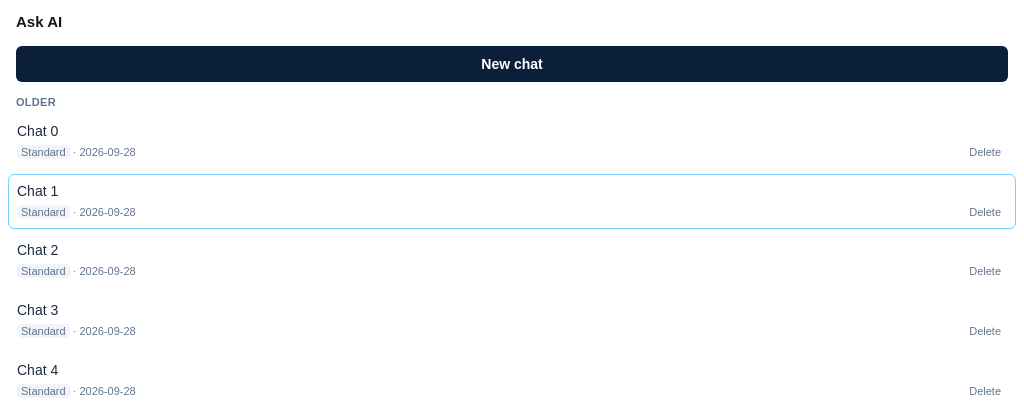
Test case: Rail › a DELETE answered 404 counts as success (the chat is already gone): back to /ask when it was the open chat, and no error line
The width and height of the screenshot is (1024, 419).
Click the button with aria-label "Delete Chat 1" at (985,213), box [963,203,1007,222]
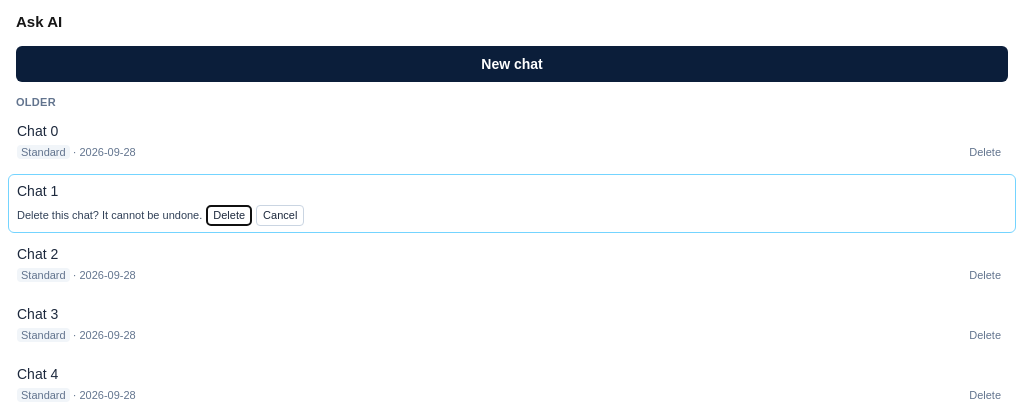
Click the button with aria-label "Confirm delete Chat 1" at (229,216), box [206,205,252,226]
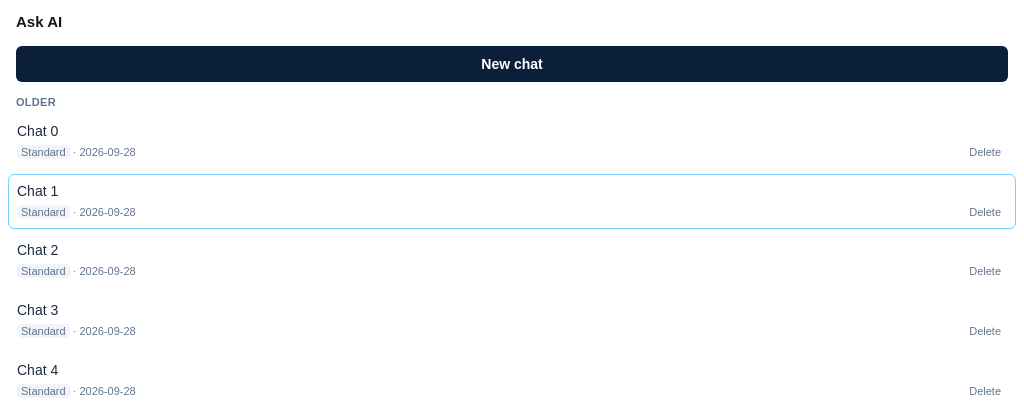
Expected: the text "Delete this chat? It cannot be undone." is gone
